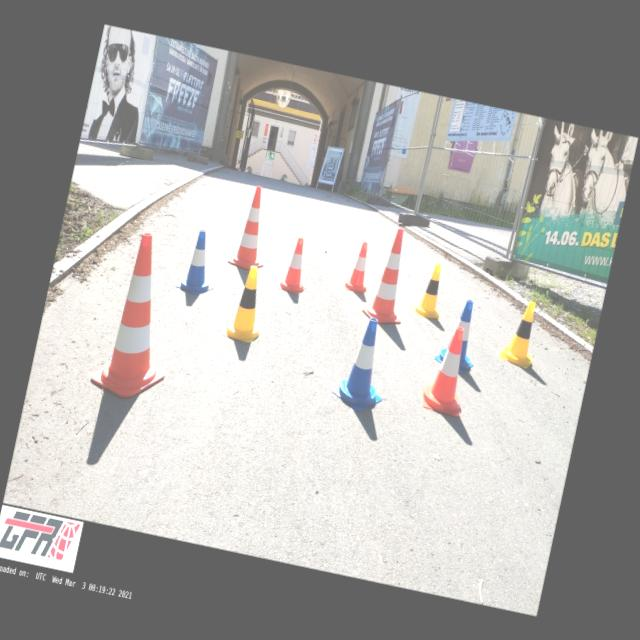blue_cone: (328, 312, 398, 414), (432, 294, 486, 375), (173, 226, 225, 298)
large_orange_cone: (88, 226, 193, 404), (360, 224, 419, 326), (226, 182, 278, 272)
orange_cone: (417, 321, 478, 417), (275, 234, 316, 295), (342, 239, 376, 293)
yellow_cone: (220, 262, 276, 344), (496, 297, 544, 370), (409, 260, 452, 322)
